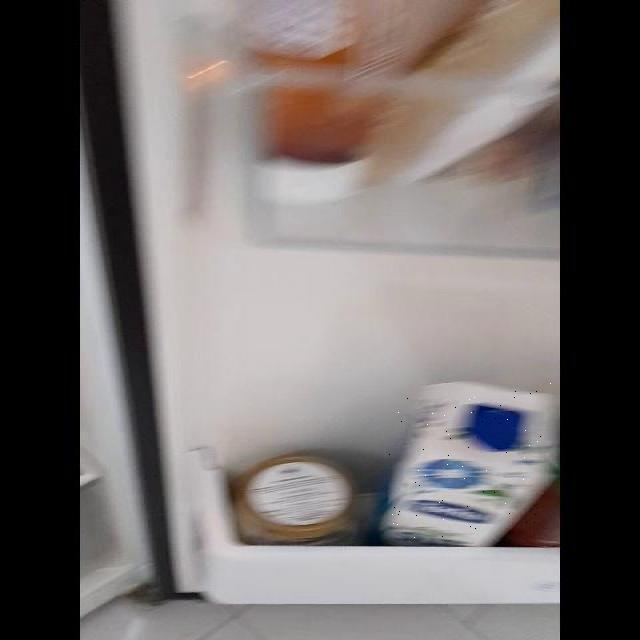milk: (388, 382, 552, 539)
